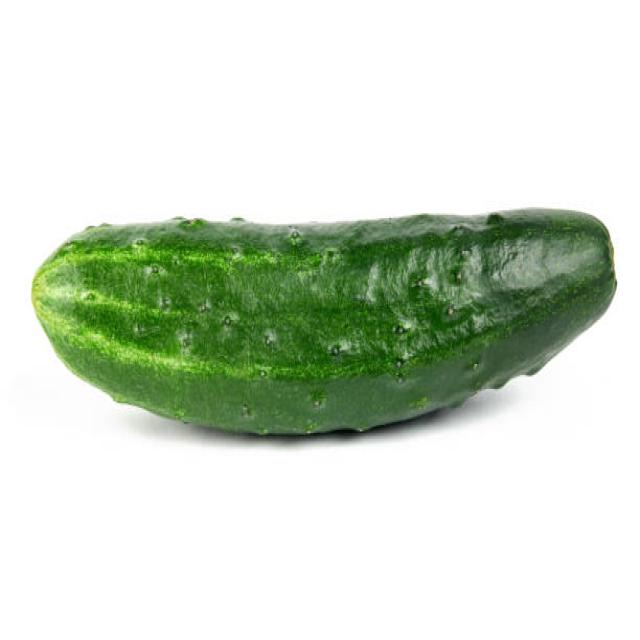cucumber: (32, 206, 616, 438)
